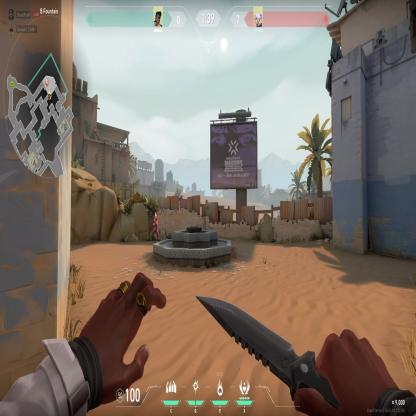enemy: (151, 212, 160, 242)
